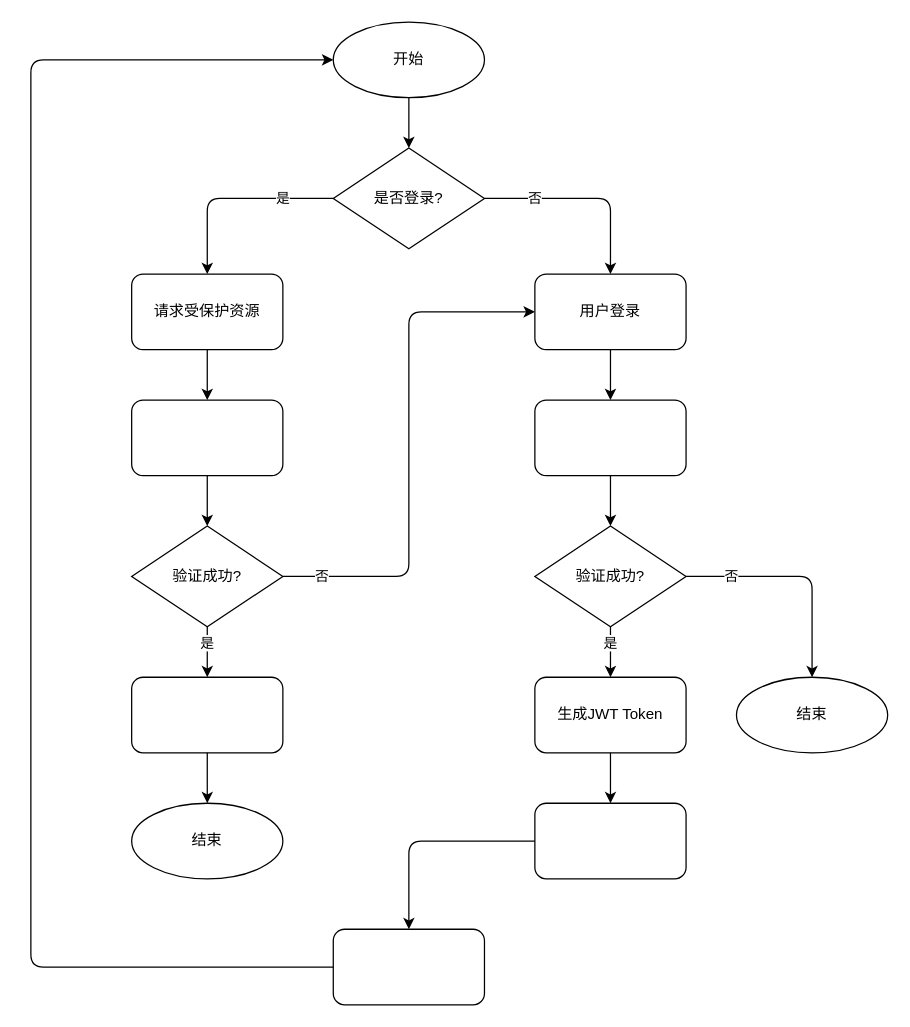
Some shapes in this 910 by 1027 pixel diagram are drawn without their labels. Each missing label, with the centre of its shape:
"客户端存储Token" belongs at [408,966].
"服务器验证Token" belongs at [206,437].
"服务器验证用户信息" belongs at [610,437].
"返回Token给客户端" belongs at [610,840].
"返回请求的资源" belongs at [206,714].
